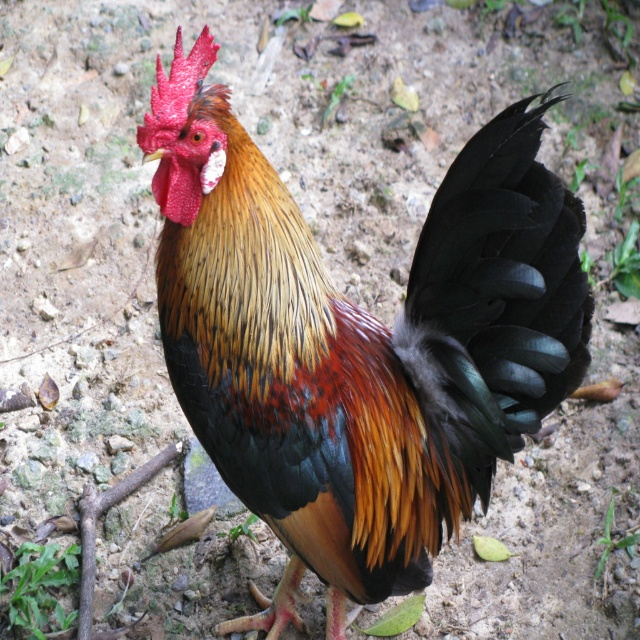Chicken: (141, 15, 590, 639)
